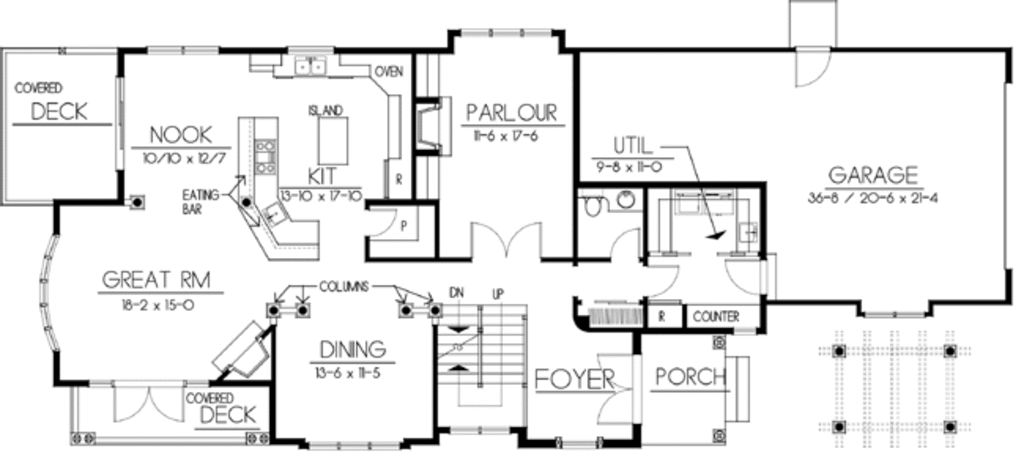door: (468, 217, 545, 265), (110, 380, 188, 426), (791, 43, 832, 90), (721, 256, 765, 297), (642, 260, 683, 295), (364, 205, 399, 240), (607, 226, 642, 260)
kitchen_bar: (229, 113, 325, 260)
large_sink: (580, 189, 606, 222)
small_sink: (607, 188, 645, 216)
stairs: (433, 303, 531, 429)
twin_sink: (292, 56, 334, 77)
windows: (36, 226, 62, 352), (113, 75, 129, 178), (299, 439, 401, 455), (456, 27, 557, 40), (144, 42, 225, 57), (861, 307, 929, 322), (447, 421, 510, 437), (555, 436, 606, 454)
